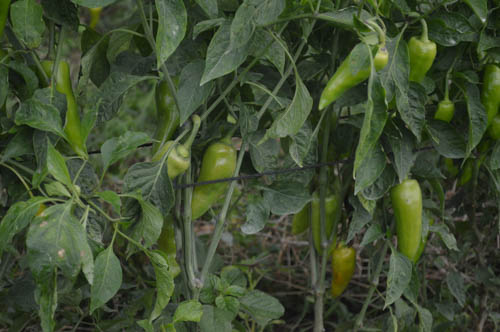ChiliPepper: (35, 57, 96, 165), (309, 41, 390, 114), (185, 134, 240, 230), (385, 175, 434, 276), (144, 71, 187, 154), (470, 49, 500, 129), (453, 136, 494, 193), (147, 134, 195, 182), (309, 191, 343, 258), (324, 241, 358, 300), (150, 207, 179, 273), (405, 33, 438, 83), (287, 195, 315, 242), (432, 98, 462, 127)
